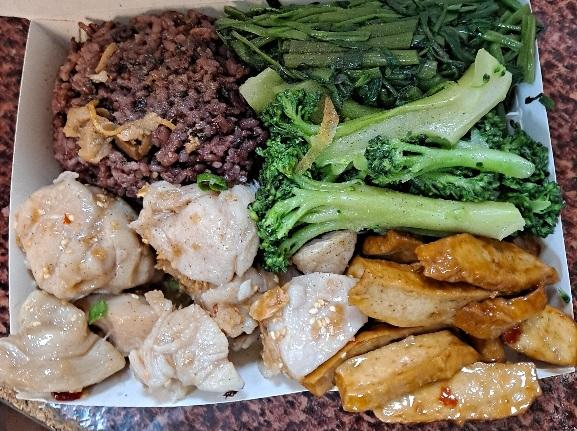big grilled chicken leg: (3, 8, 577, 424)
braised fish: (47, 9, 264, 186)
braised fish fillet: (252, 81, 556, 249), (346, 236, 577, 424), (231, 0, 533, 100)
braised pork: (7, 176, 361, 401)
